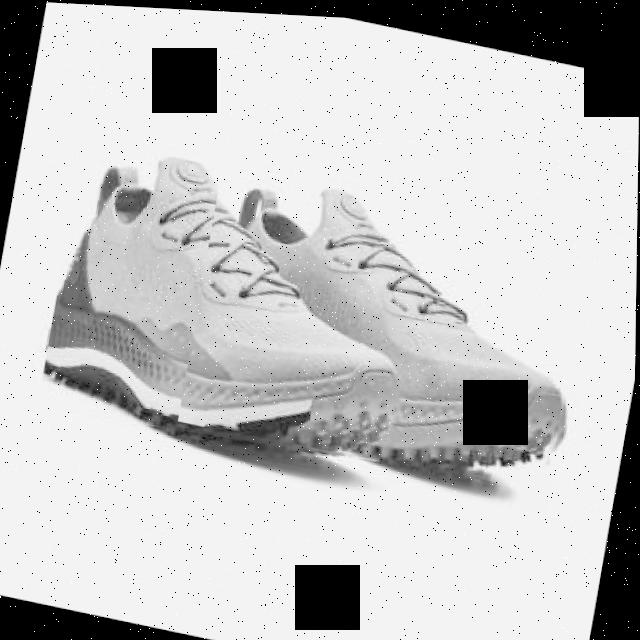shoe: (179, 162, 598, 495), (38, 136, 440, 481)
